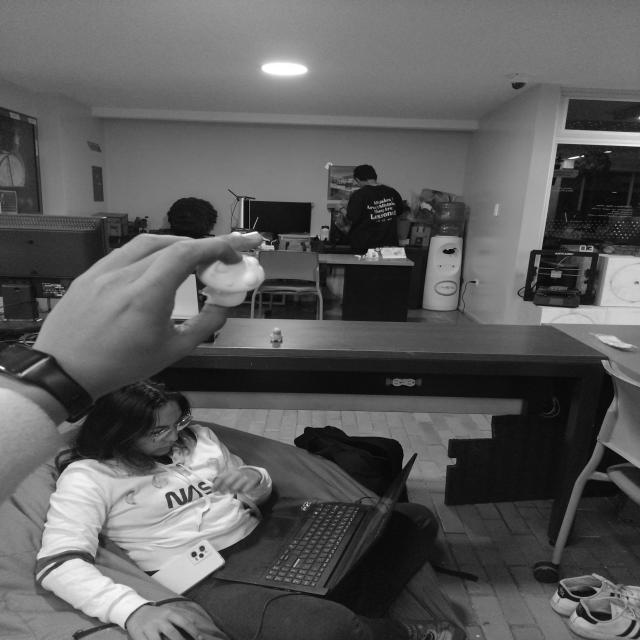Hongo: (195, 247, 269, 315)
